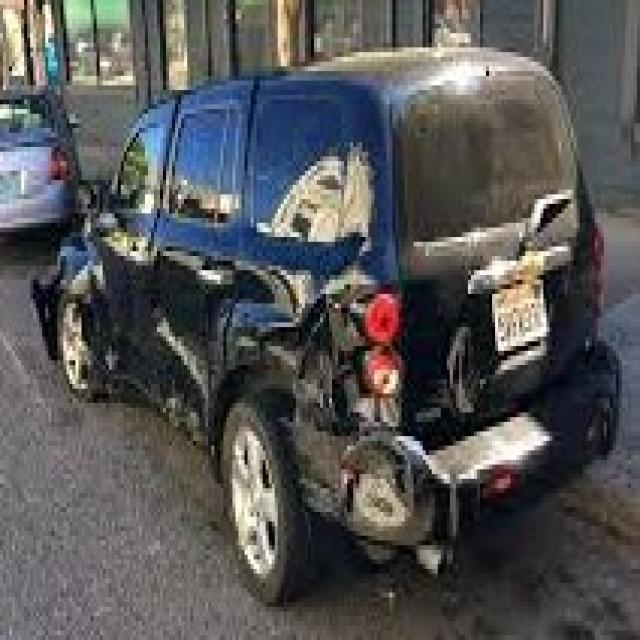moderate: (292, 357, 411, 585), (39, 217, 118, 380)
